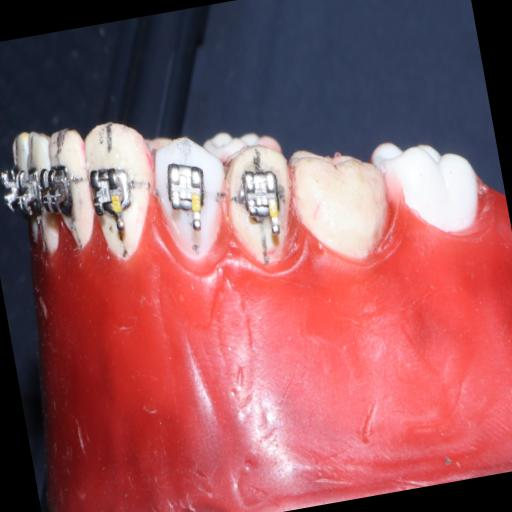correct_brace: (143, 127, 239, 266)
incorrect_brace: (160, 154, 212, 218)
